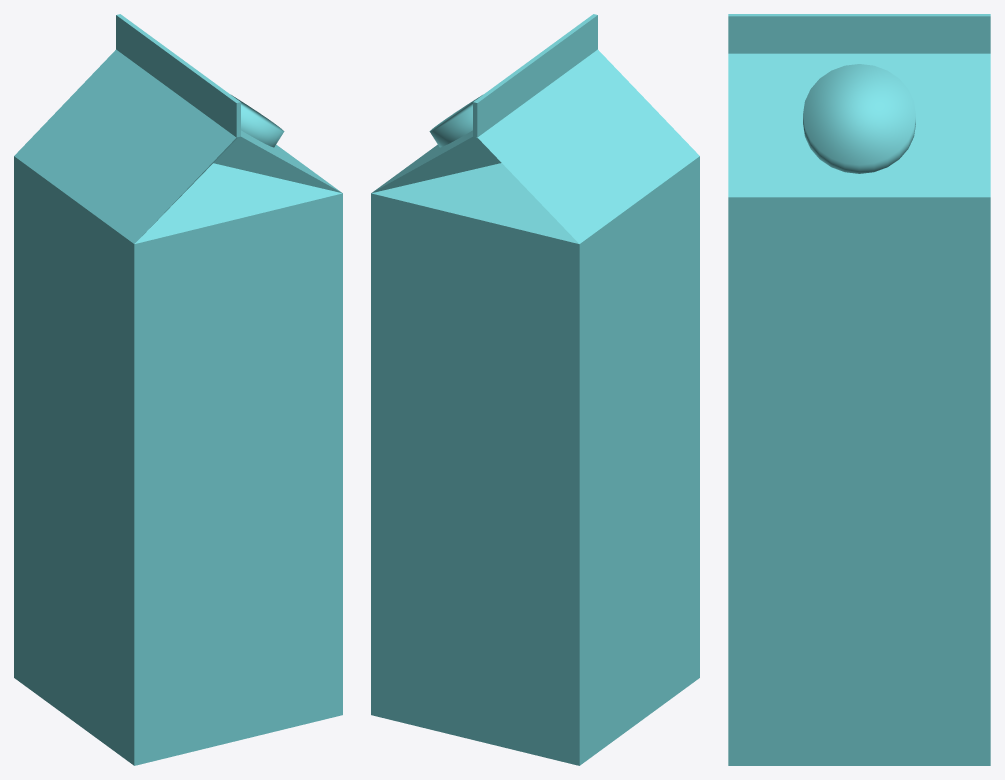
File: CartoneLattePS_1L.fbx
The picture shows the model from 3 angles, left to right: view 1: azimuth 30°, elevation 25°; view 2: azimuth 150°, elevation 25°; view 3: azimuth 270°, elevation 25°; orthographic projection. The views are drawn at different scales.
Visible parts, largest first — view 1: CartoneLatte.003; view 2: CartoneLatte.003; view 3: CartoneLatte.003.
Boxes of the visible parts, x1,y1,x2,y2 form: CartoneLatte.003: (14,14,342,765); CartoneLatte.003: (371,14,699,765); CartoneLatte.003: (728,14,990,765).
Size of the model in its own units: 414 by 1211 by 414.
